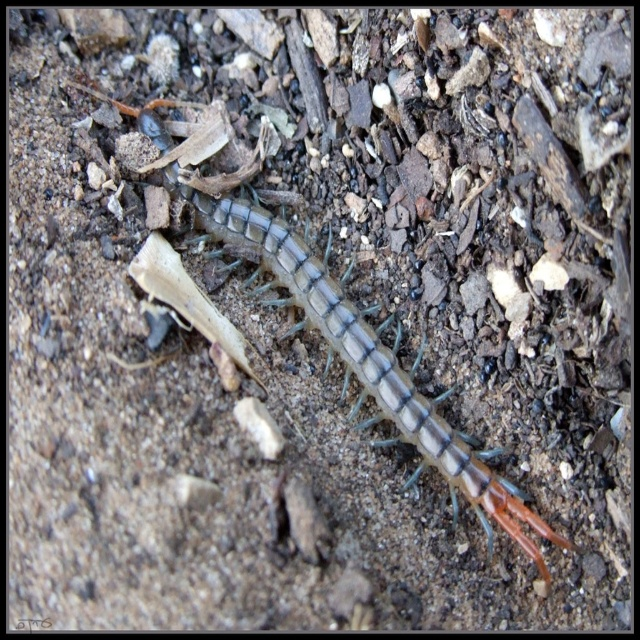Centipede: (68, 83, 581, 585)
